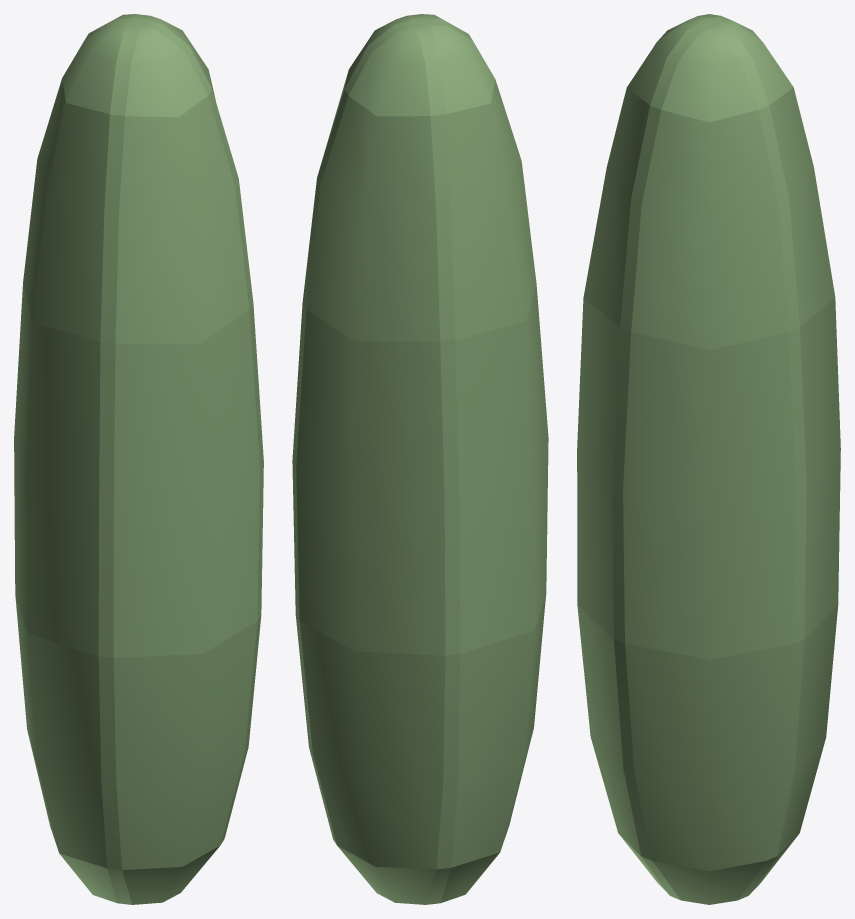
The model's file is Arvore Cidade 1.fbx.
3 renders of one model, left to right at view 1: azimuth 30°, elevation 25°; view 2: azimuth 150°, elevation 25°; view 3: azimuth 270°, elevation 25°, orthographic.
Parts seen in each view (by area): view 1: Arvore Cidade 1; view 2: Arvore Cidade 1; view 3: Arvore Cidade 1.
Part boxes in pixels (left/top/right/bottom): Arvore Cidade 1: left=14, top=14, right=263, bottom=904; Arvore Cidade 1: left=292, top=14, right=548, bottom=904; Arvore Cidade 1: left=577, top=14, right=840, bottom=904.
Size of the model in its own units: 147 by 543 by 149.
